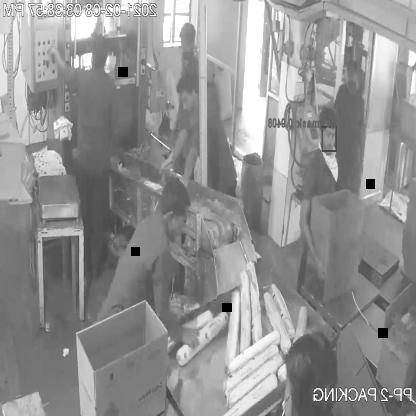no_glove: (148, 299, 202, 361), (295, 198, 333, 267)
